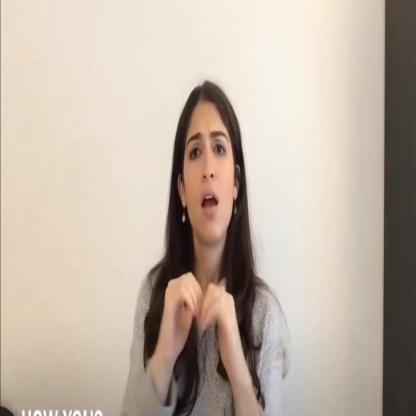HowAreYou: (155, 267, 242, 387)
